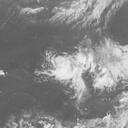cyclone: (43, 48, 87, 88)
